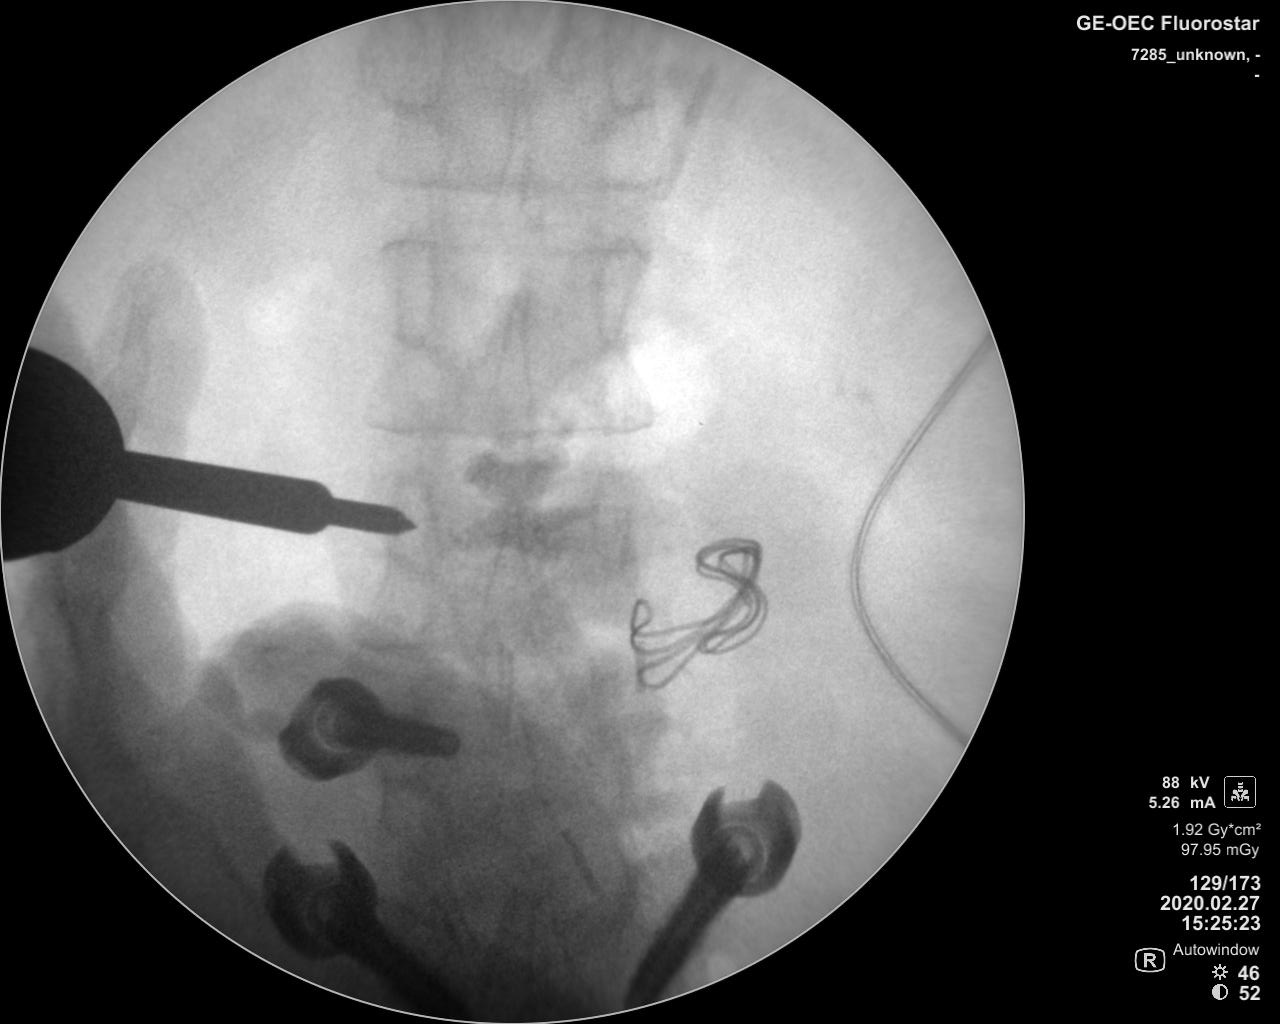eyes: (367, 17, 444, 113), (597, 15, 664, 116), (386, 236, 439, 349), (592, 239, 639, 346), (390, 485, 438, 572), (588, 475, 630, 568)
line: (358, 414, 658, 440), (374, 232, 660, 259), (368, 172, 674, 197)
nose: (489, 285, 539, 445), (485, 503, 534, 655), (492, 98, 539, 226)
